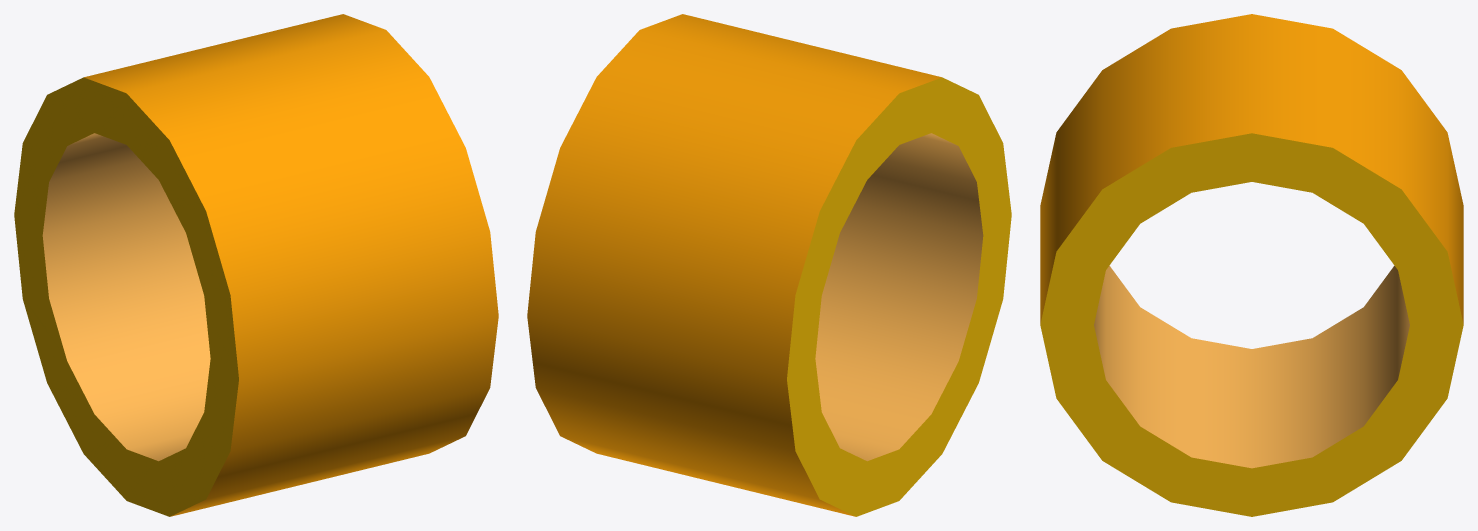
The model's file is D_FBX_05_Pipe_00.fbx.
3 views of the same model, side by side, from view 1: azimuth 30°, elevation 25°; view 2: azimuth 150°, elevation 25°; view 3: azimuth 270°, elevation 25° (orthographic). The views are drawn at different scales.
Visible parts, largest first — view 1: D_FBX_05_Pipe_00; view 2: D_FBX_05_Pipe_00; view 3: D_FBX_05_Pipe_00.
Part boxes in pixels (bbox=[...]): D_FBX_05_Pipe_00: bbox=[14, 14, 498, 516]; D_FBX_05_Pipe_00: bbox=[527, 14, 1011, 516]; D_FBX_05_Pipe_00: bbox=[1040, 14, 1463, 516].
Bounding box in the file's own units: 100 × 150 × 150.
